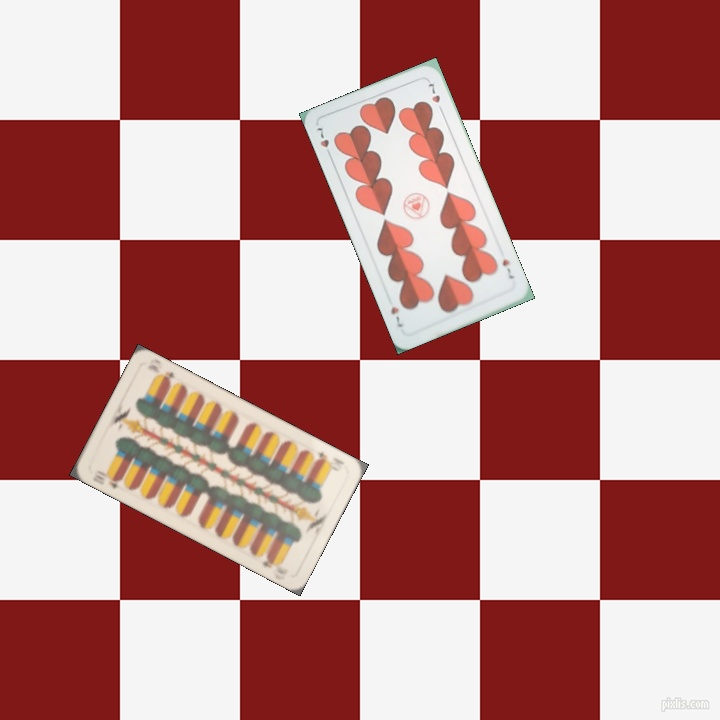E10: (88, 470, 124, 491), (310, 447, 337, 465)
H7: (312, 123, 335, 161), (498, 255, 516, 281)
